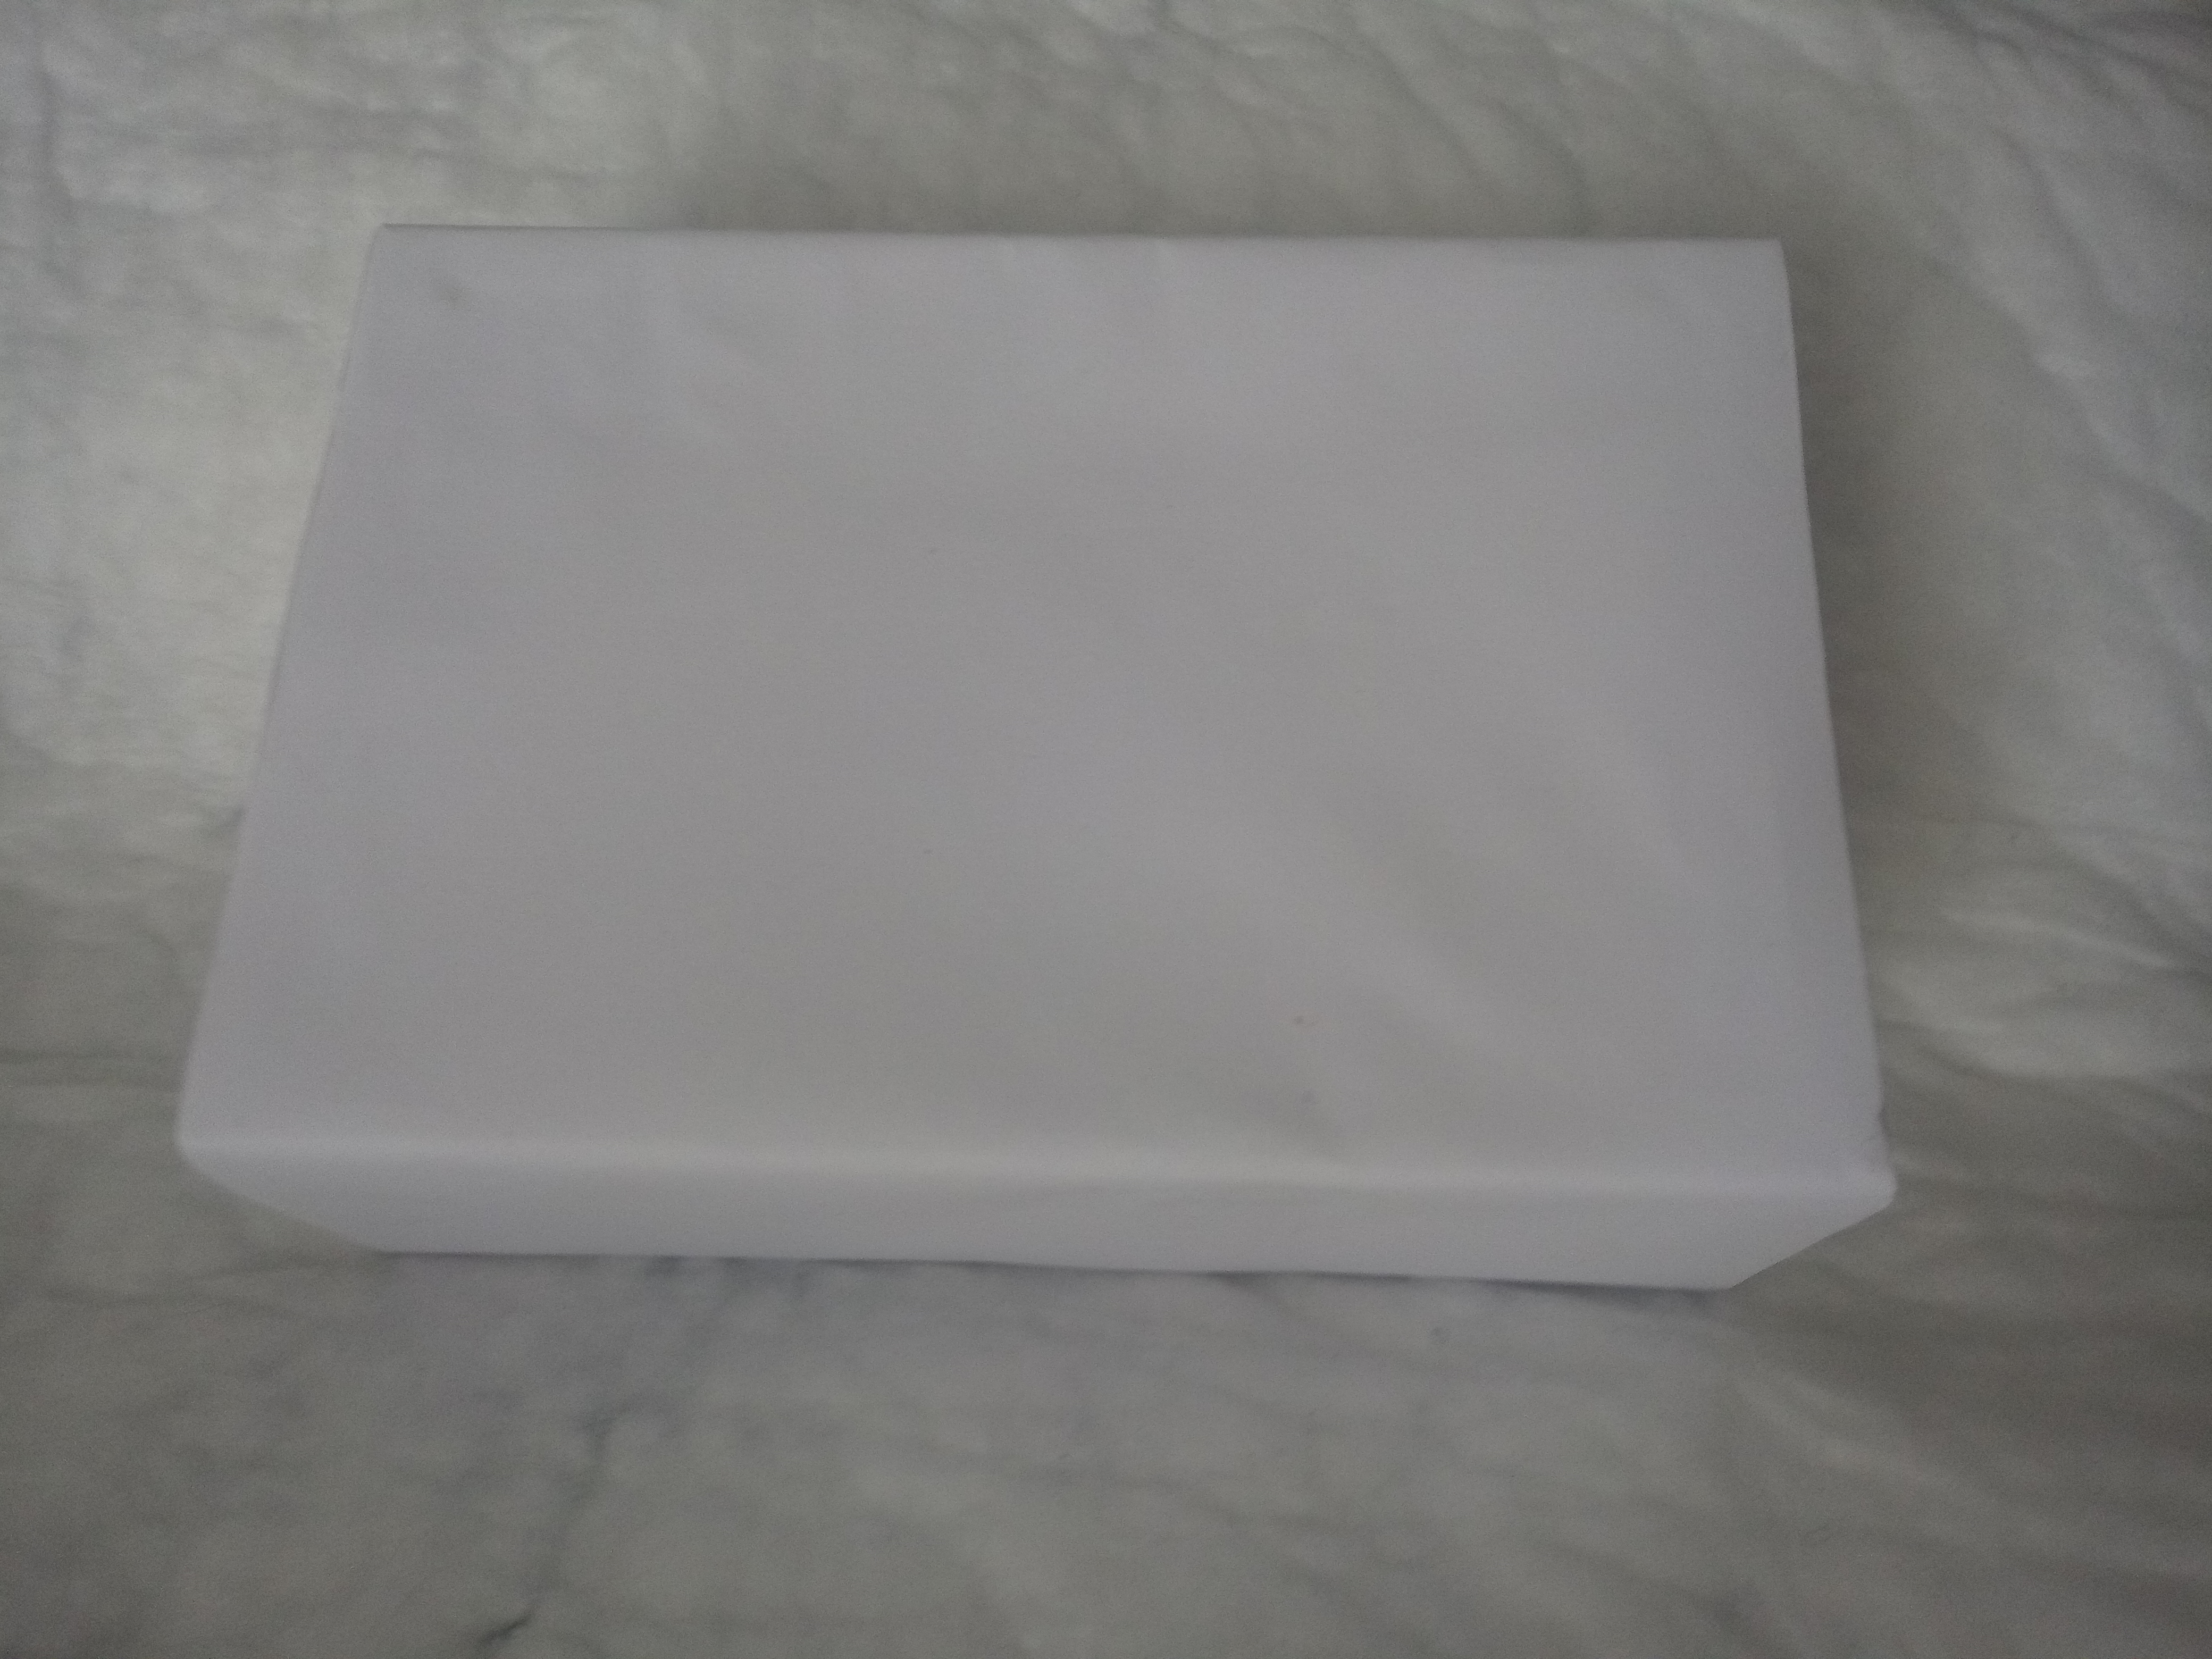white_box: (139, 176, 1939, 1349)
